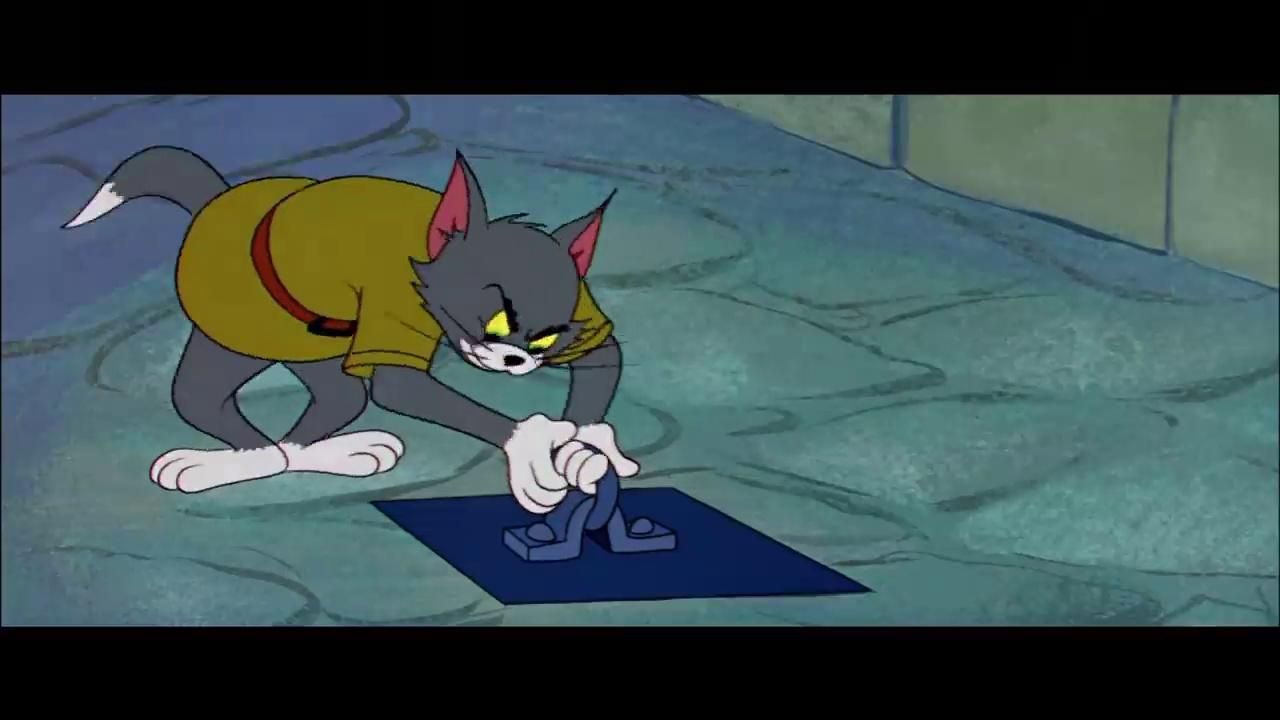Tom: (58, 142, 641, 516)
